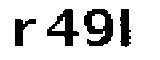4: (43, 6, 81, 49)
9: (81, 6, 114, 50)
l: (114, 5, 133, 49)
r: (12, 16, 38, 50)
